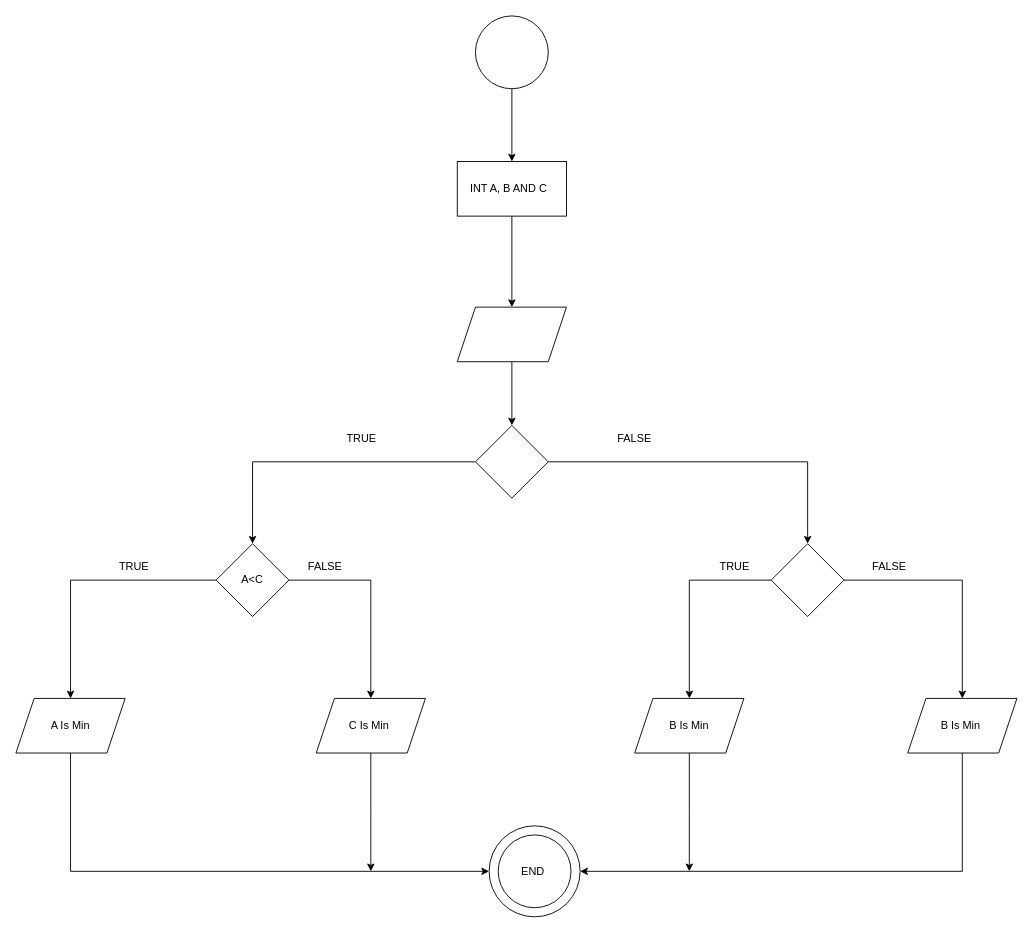
This 1033x933 diagram has some shape labels left out. Here are the shapes that lost their labels. From the top down, the centre of each, then its label:
At [511,52]: "STRAT".
At [511,334]: "READ Variable A, B AND C".
At [511,461]: "A<B".
At [807,580]: "B<C".
